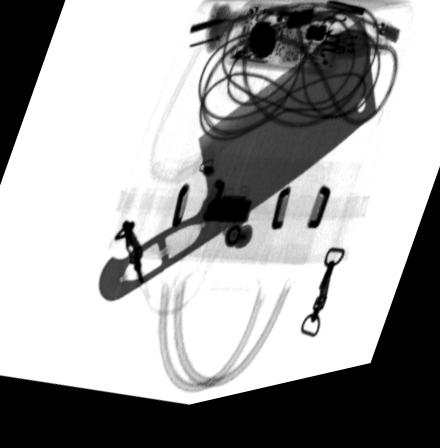Knife: (98, 30, 381, 308)
